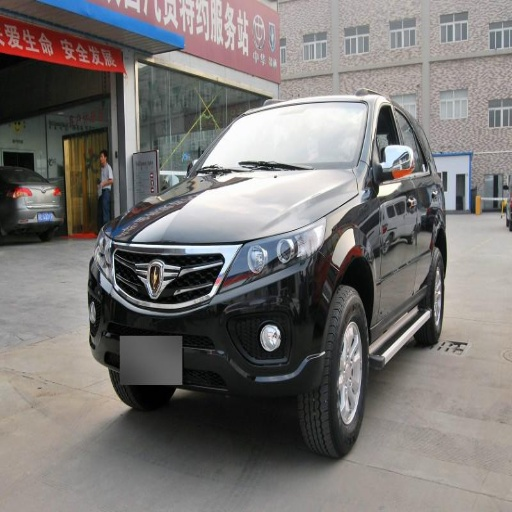front_bumper: (91, 239, 333, 397)
front_glass: (198, 105, 365, 172)
front_left_door: (369, 103, 413, 333)
